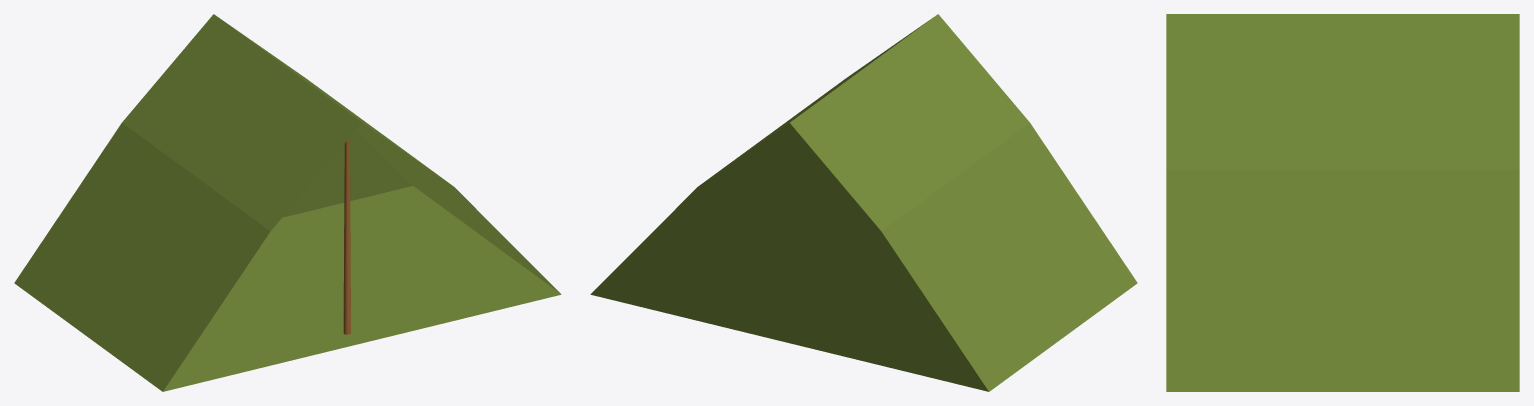
The model's file is Tent.glb.
3 views of the same model, side by side, from view 1: azimuth 30°, elevation 25°; view 2: azimuth 150°, elevation 25°; view 3: azimuth 270°, elevation 25° (orthographic). The views are drawn at different scales.
Visible parts, largest first — view 1: Cube, Cylinder; view 2: Cube; view 3: Cube.
Part boxes in pixels (x1,y1,x2,y2): Cube: [14, 14, 561, 391]; Cylinder: [343, 138, 350, 334]; Cube: [590, 14, 1137, 391]; Cube: [1166, 14, 1519, 391].
Bounding box in the file's own units: 8.5 × 4.53 × 5.48.
